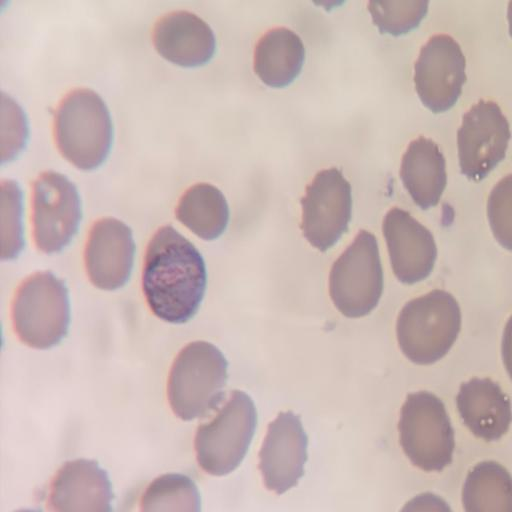Infected: (144, 226, 206, 324)
Uninfected: (167, 341, 232, 424), (193, 389, 256, 474), (51, 86, 112, 169), (398, 287, 461, 364), (11, 269, 70, 349), (330, 229, 381, 319), (398, 390, 454, 469), (300, 165, 351, 251), (382, 206, 437, 285), (29, 170, 81, 253), (457, 98, 510, 178), (414, 33, 464, 113), (151, 8, 216, 68), (261, 410, 306, 494), (401, 134, 449, 210), (87, 217, 133, 290), (457, 377, 510, 440), (253, 26, 303, 87), (176, 183, 227, 238)
